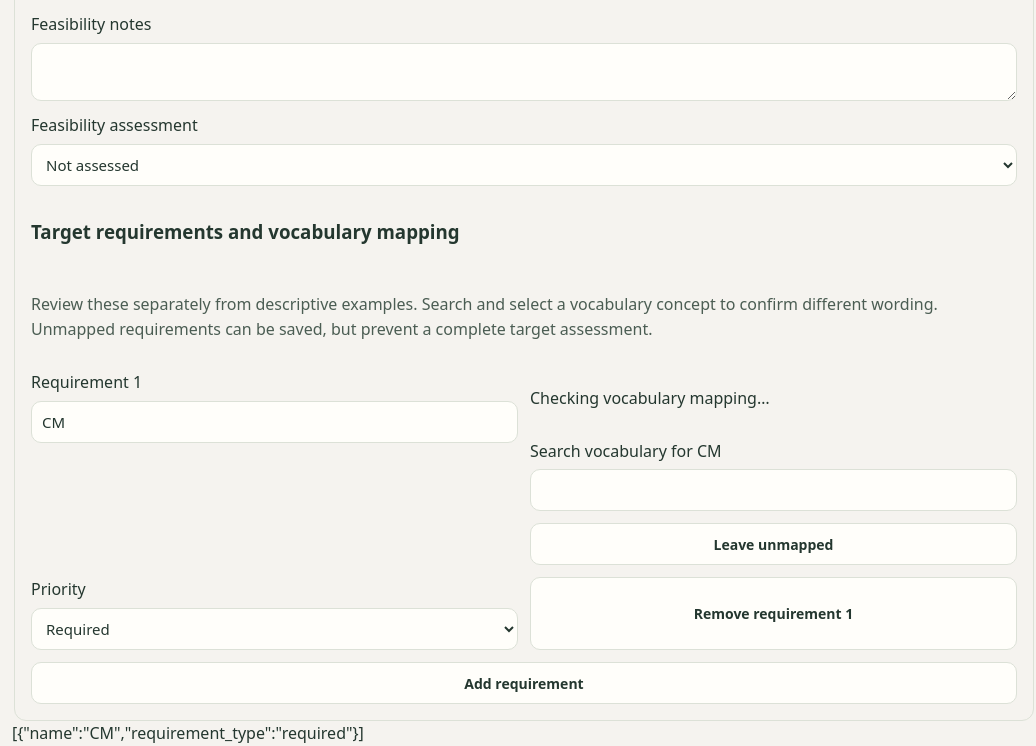
ignores obsolete resolution responses after requirement wording changes
The width and height of the screenshot is (1036, 746).
(page scrolled)
Step 1. Replace the text in the field labelled "Requirement 1" with "New" → (274, 422), box x1=31 y1=401 x2=518 y2=443
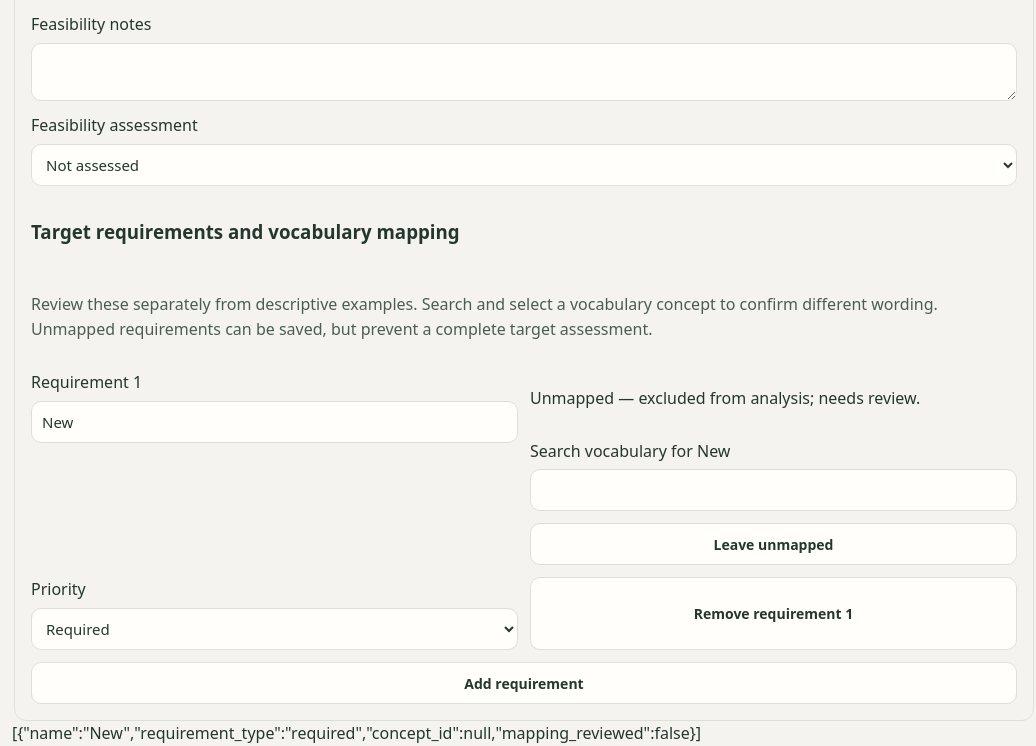
Expected: the text "Unmapped — excluded from analysis; needs review." is shown, x1=530 y1=387 x2=920 y2=409
